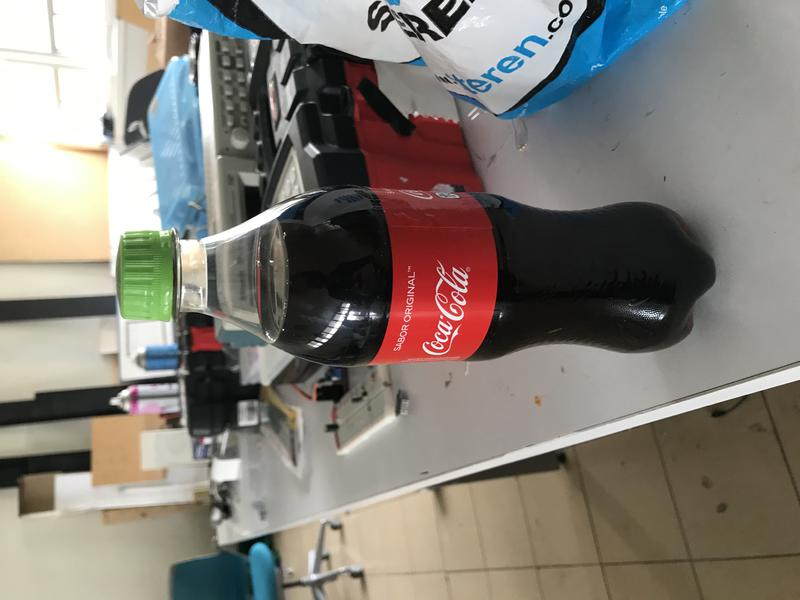coca_cola: (116, 187, 717, 367)
